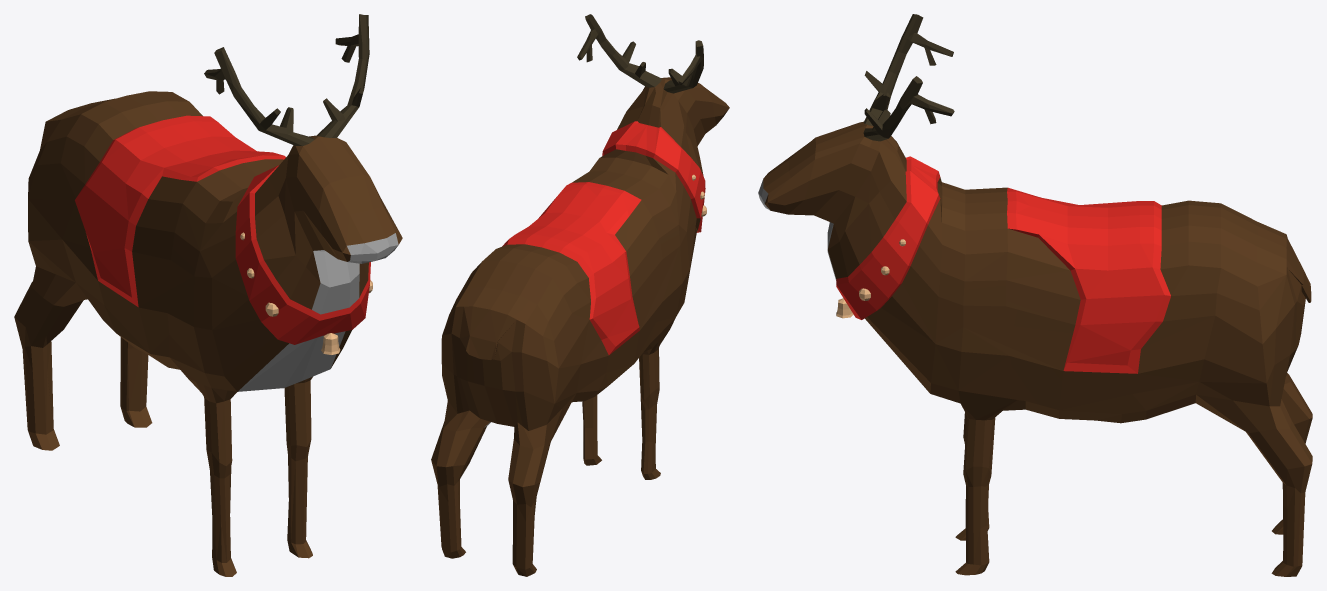
File: Reindeer_2.fbx
The picture shows the model from 3 angles, left to right: view 1: azimuth 30°, elevation 25°; view 2: azimuth 150°, elevation 25°; view 3: azimuth 270°, elevation 25°; orthographic projection. The views are drawn at different scales.
Visible parts, largest first — view 1: Sphere.002; view 2: Sphere.002; view 3: Sphere.002.
Boxes of the visible parts, left/top/right/bottom form: Sphere.002: left=14, top=14, right=402, bottom=576; Sphere.002: left=431, top=14, right=729, bottom=576; Sphere.002: left=758, top=14, right=1312, bottom=576.
Size of the model in its own units: 75.57 by 259 by 256.
